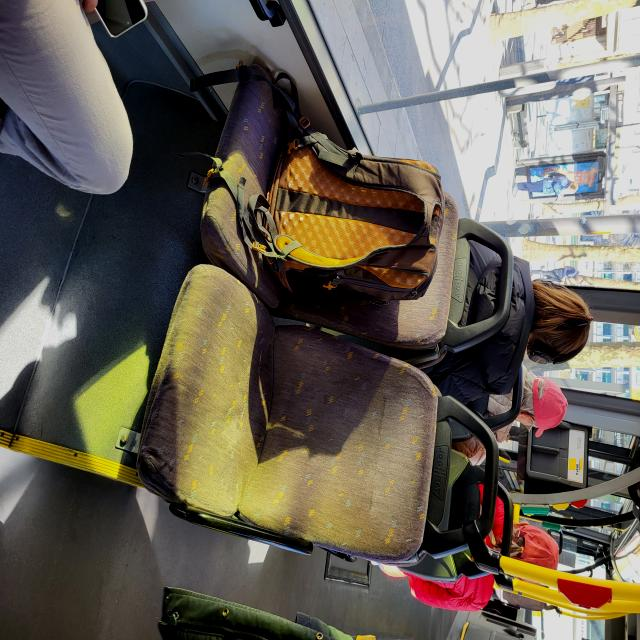asiento-libre: (358, 188, 584, 640)
